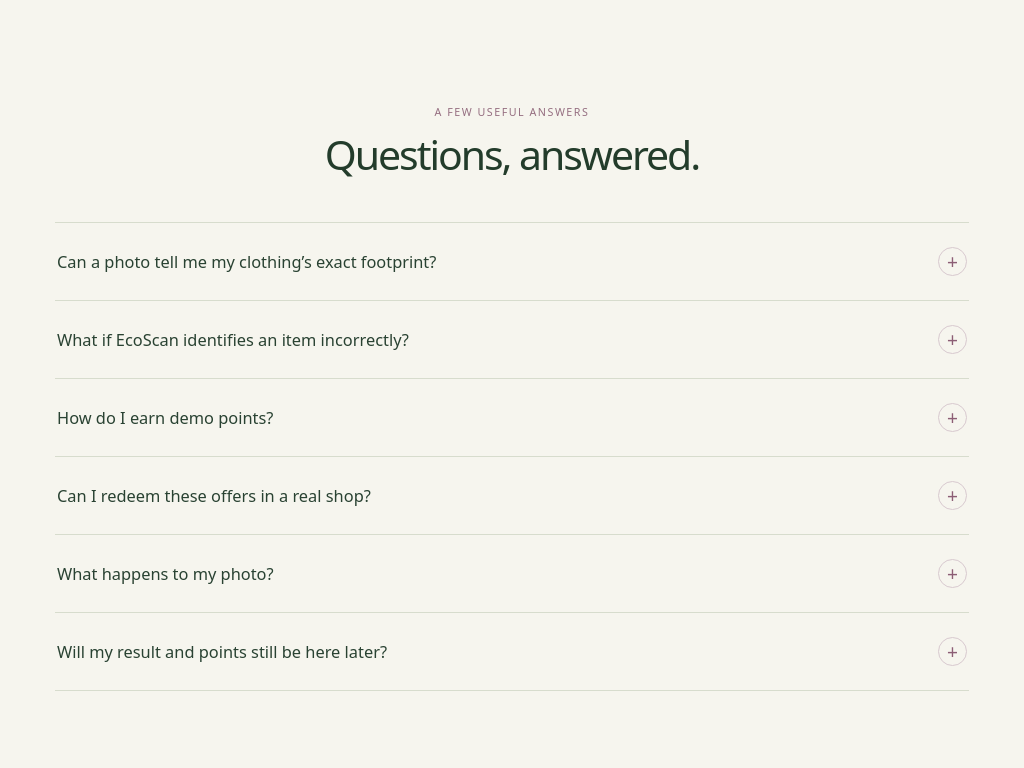
Test: lets a visitor expand an EcoScan answer
Expected: the number of elements with class "faq-item" is 6, 55,223 -> 969,301; 55,301 -> 969,379; 55,379 -> 969,457; 55,457 -> 969,535; 55,535 -> 969,613; 55,613 -> 969,691
Click the text "Can a photo tell me my clothing’s exact footprint?" at (247, 262), box 57,249 -> 436,275
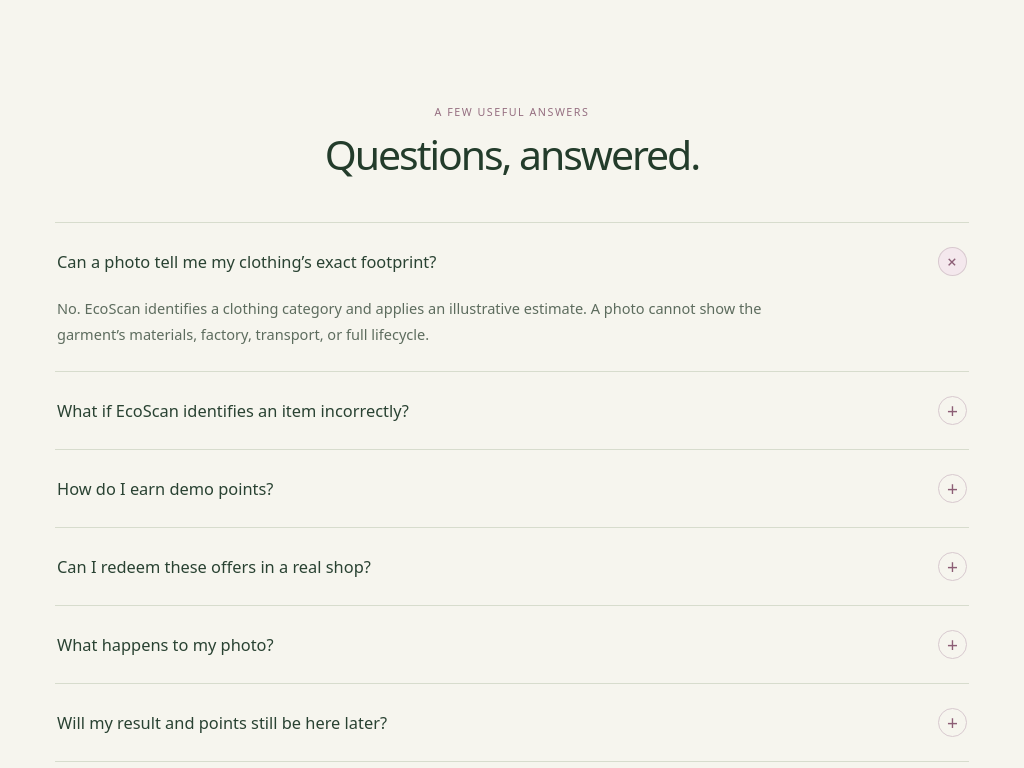
Result: the element with class "faq-item" shows "illustrative estimate" at 57,298 -> 762,344
